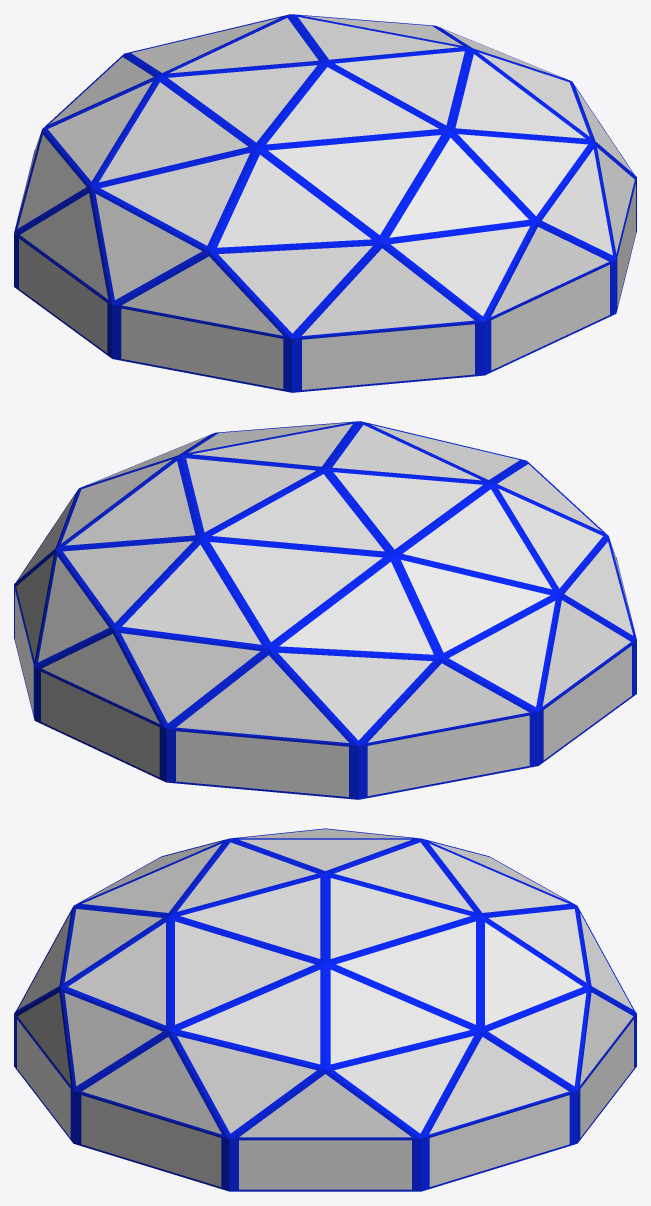
Rendered from sleeping_quaters.fbx.
3 renders of one model, top to bottom at view 1: azimuth 30°, elevation 25°; view 2: azimuth 150°, elevation 25°; view 3: azimuth 270°, elevation 25°, orthographic. The views are drawn at different scales.
Visible parts, largest first — view 1: Dome, Base; view 2: Dome, Base; view 3: Dome, Base.
Boxes of the visible parts, left/top/right/bottom form: Dome: left=14, top=14, right=636, bottom=338; Base: left=14, top=150, right=636, bottom=392; Dome: left=14, top=421, right=636, bottom=745; Base: left=14, top=557, right=636, bottom=799; Dome: left=14, top=828, right=636, bottom=1138; Base: left=14, top=1011, right=636, bottom=1191.
Bounding box in the file's own units: 1537 × 573 × 1616.
